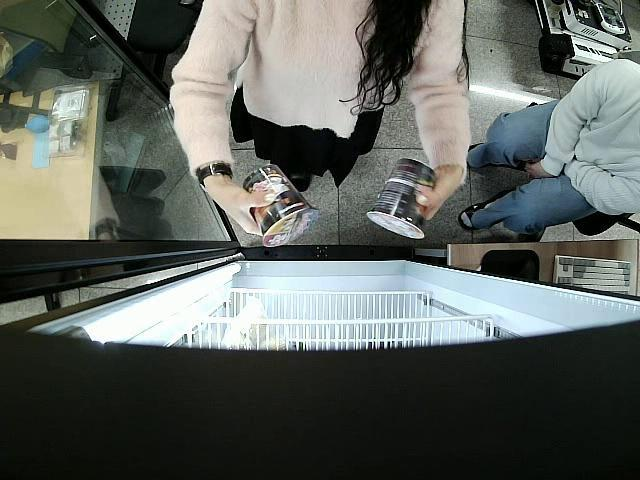08_buldak_S: (243, 164, 320, 248), (366, 155, 436, 240)
